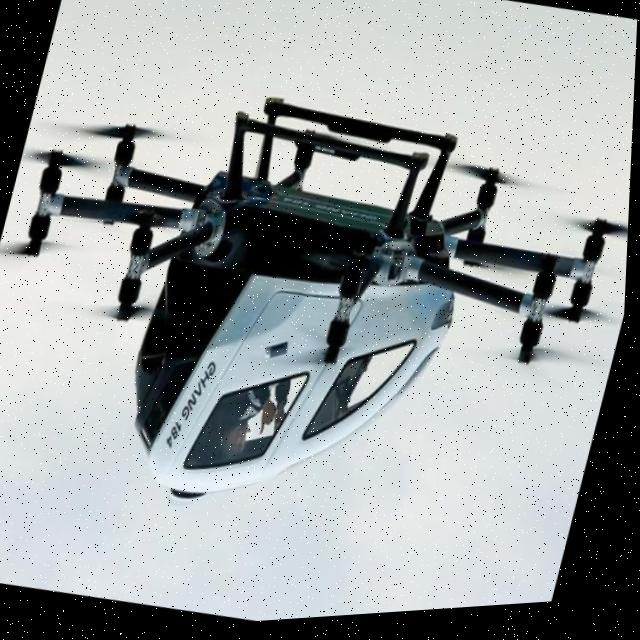drones: (0, 0, 640, 618)
